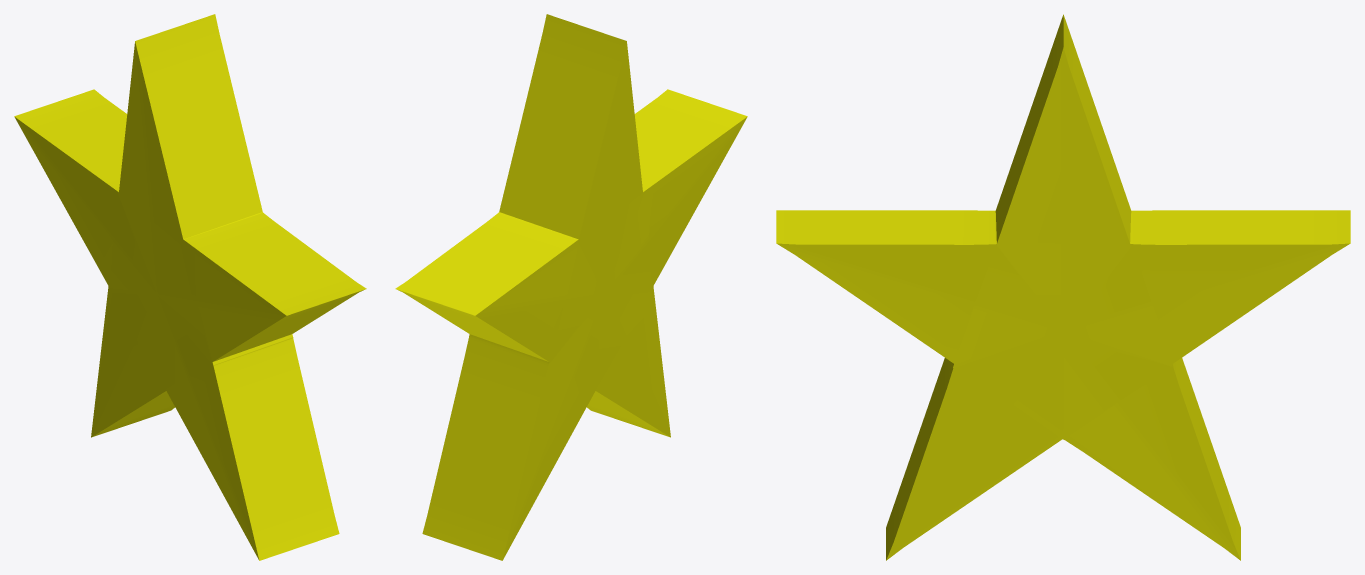
The model's file is Collectable.fbx.
3 renders of one model, left to right at view 1: azimuth 30°, elevation 25°; view 2: azimuth 150°, elevation 25°; view 3: azimuth 270°, elevation 25°, orthographic. The views are drawn at different scales.
Parts seen in each view (by area): view 1: pCylinder4; view 2: pCylinder4; view 3: pCylinder4.
Part boxes in pixels (box(x1,y1,x2,y2)): pCylinder4: box(14, 14, 366, 560); pCylinder4: box(395, 14, 747, 560); pCylinder4: box(776, 14, 1350, 560).
Size of the model in its own units: 0.448 by 1.69 by 1.76.
